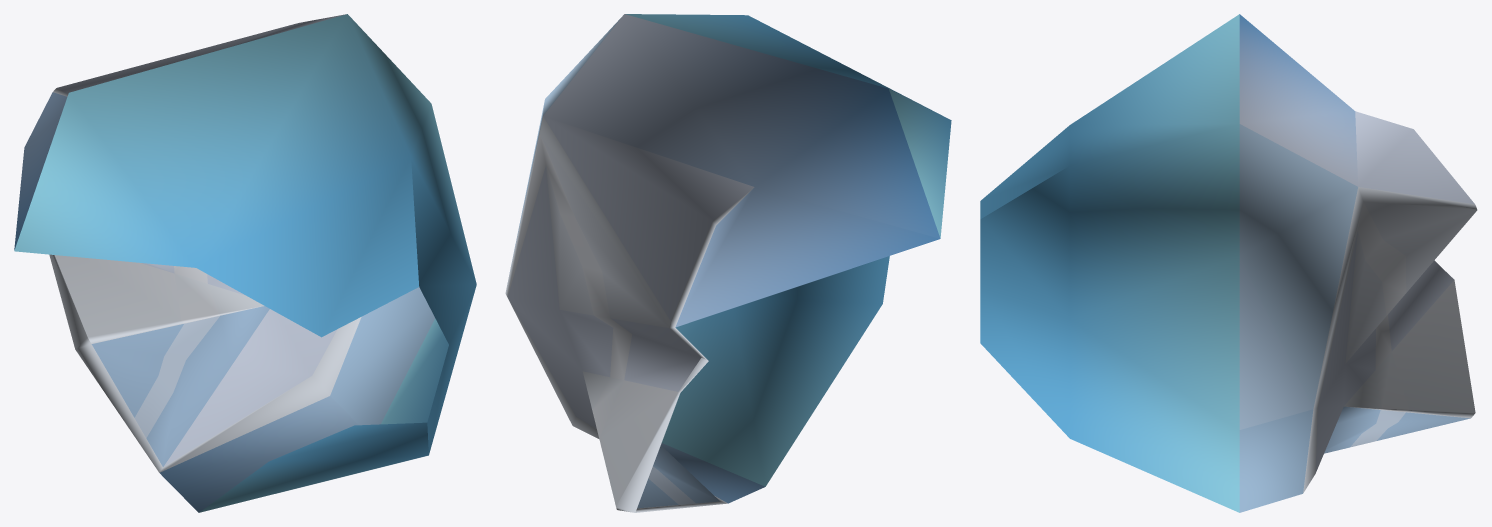
Rendered from HerbertBaseIceB.fbx.
3 renders of one model, left to right at view 1: azimuth 30°, elevation 25°; view 2: azimuth 150°, elevation 25°; view 3: azimuth 270°, elevation 25°, orthographic. The views are drawn at different scales.
Parts seen in each view (by area): view 1: HerbertBaseIceB; view 2: HerbertBaseIceB; view 3: HerbertBaseIceB.
Part boxes in pixels (bbox=[...]): HerbertBaseIceB: bbox=[14, 14, 476, 512]; HerbertBaseIceB: bbox=[505, 14, 951, 512]; HerbertBaseIceB: bbox=[980, 14, 1477, 512].
Size of the model in its own units: 180 by 182 by 203.
